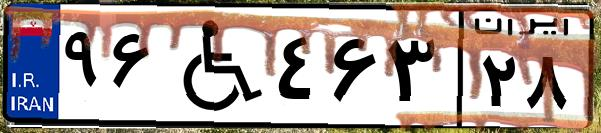2: (475, 38, 525, 113)
3: (385, 28, 445, 110)
4: (270, 28, 330, 110)
6: (330, 28, 385, 110), (110, 28, 158, 98)
8: (525, 38, 570, 115)
9: (57, 26, 110, 100)
ژ (معلولین و جانبازان): (158, 12, 270, 120)
